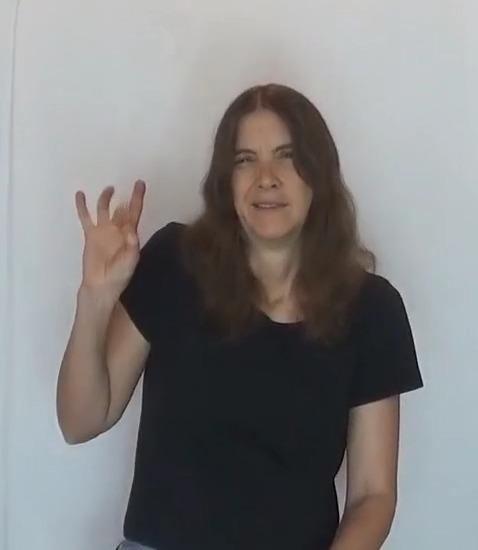Dolor: (38, 66, 433, 482)
